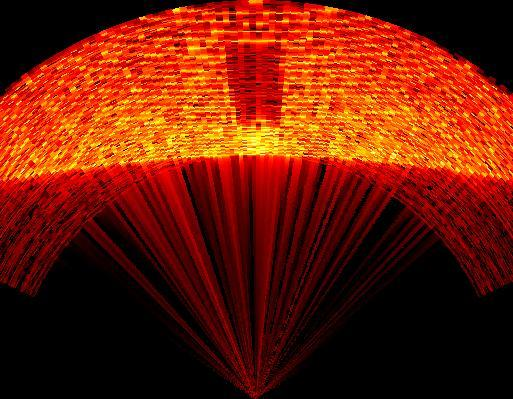box_crate: (224, 42, 287, 130)
